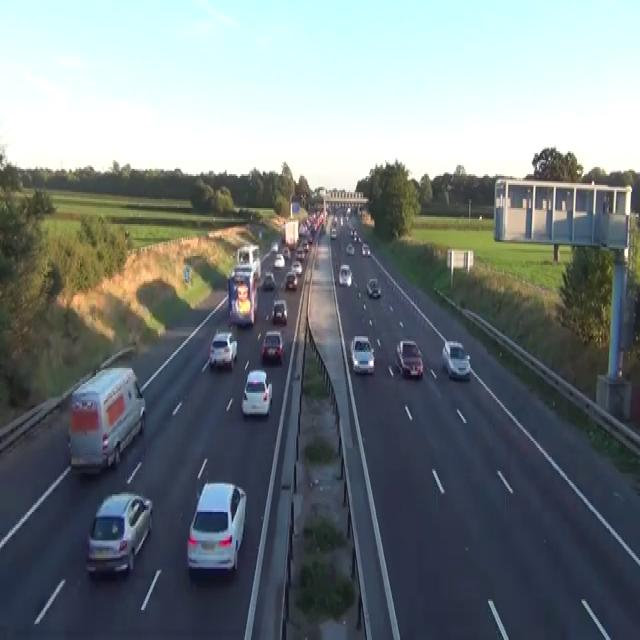Car: (186, 480, 247, 576), (85, 491, 153, 576), (241, 368, 272, 416), (441, 339, 471, 378), (208, 330, 237, 370), (395, 339, 423, 378), (350, 334, 374, 374), (261, 329, 283, 363), (271, 298, 287, 324), (338, 263, 352, 286), (366, 277, 381, 297), (284, 270, 297, 290), (263, 270, 275, 290), (291, 260, 302, 276), (273, 252, 285, 266), (361, 242, 370, 256), (296, 247, 305, 260), (282, 246, 290, 260), (345, 242, 354, 254), (351, 229, 358, 240), (301, 240, 308, 251), (346, 206, 351, 219), (330, 228, 336, 238), (271, 242, 278, 250), (307, 234, 312, 243), (355, 233, 360, 242), (340, 215, 343, 226), (350, 228, 354, 236)
Truck: (67, 364, 145, 476), (227, 244, 260, 327), (283, 219, 299, 249)
